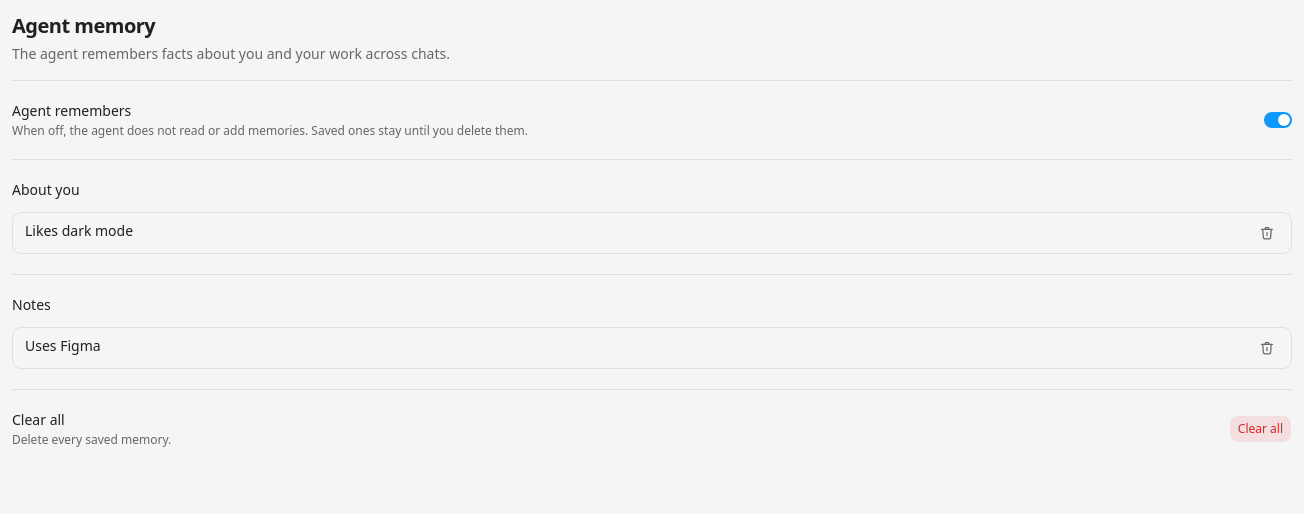
Test: MemorySection › restores the entry when the delete fails
Expected: the text "Uses Figma" is shown, [25,336,101,356]
Click the button named "Delete memory: Uses Figma".
click(1267, 348)  # box [1255,336,1279,360]
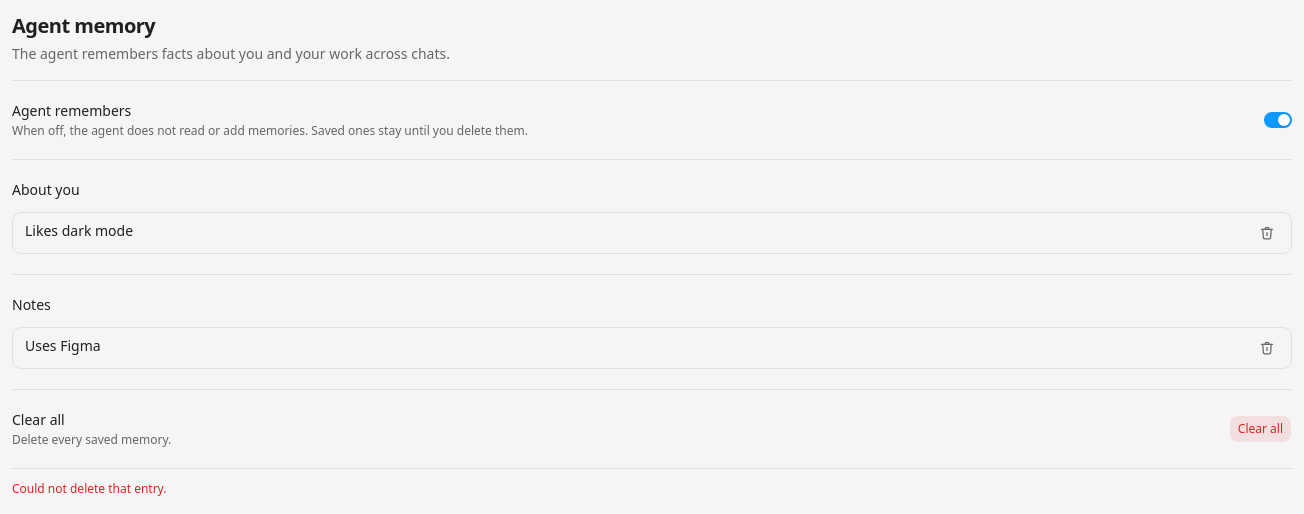
Expected: the text "Uses Figma" is shown, [25,336,101,356]
Result: the text "Could not delete that entry." is shown at [12,480,166,497]
